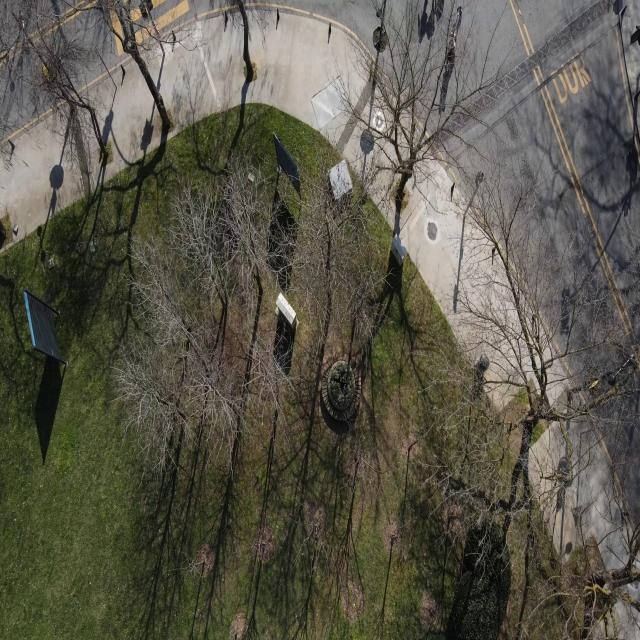p3rson: (450, 6, 463, 41)
